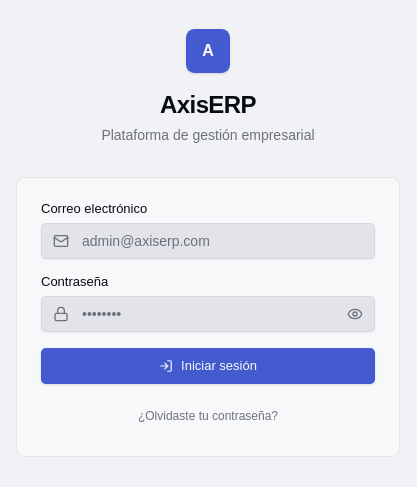
Test: LoginPage › shows validation error when password is empty
The image size is (417, 487).
In the field with placeholder "admin@axiserp.com": (208, 241) [41,223,375,259], type "user@test.com"
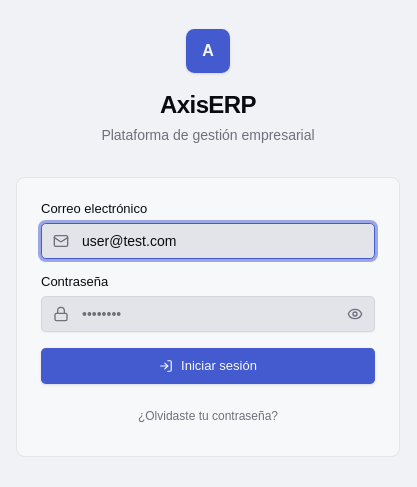
Click the button "Iniciar sesión": (208, 366) [41,348,375,384]
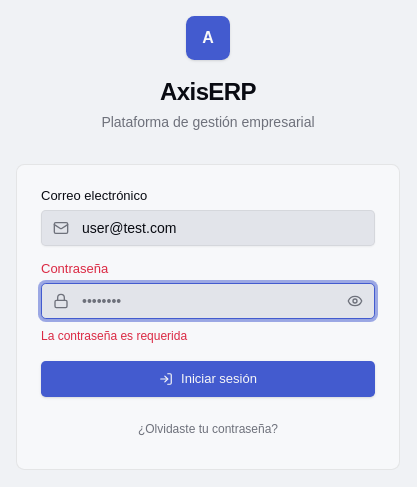
Check: the text "La contraseña es requerida" is shown, box [41,329,187,343]
